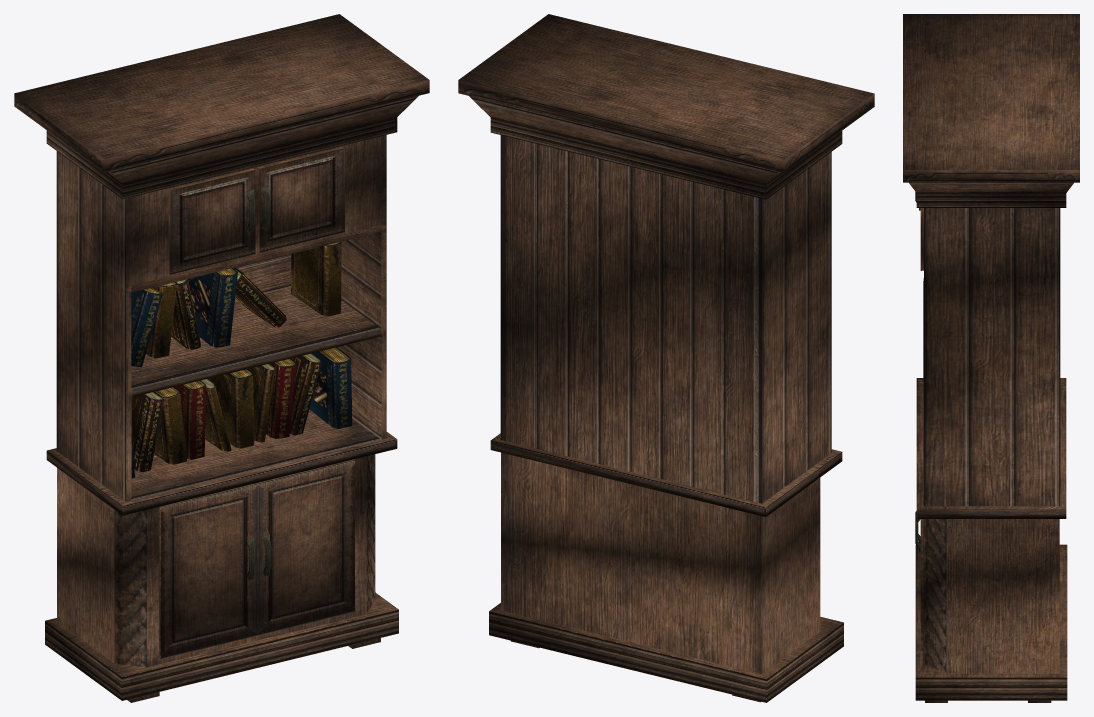
Rendered from GS_VOB_BOOKCASE_ORANGE_01_KOZA.glb.
3 renders of one model, left to right at view 1: azimuth 30°, elevation 25°; view 2: azimuth 150°, elevation 25°; view 3: azimuth 270°, elevation 25°, orthographic. The views are drawn at different scales.
Parts seen in each view (by area): view 1: Mesh; view 2: Mesh; view 3: Mesh.
Part boxes in pixels (x1,y1,x2,y2): Mesh: (14, 14, 429, 702); Mesh: (458, 14, 874, 702); Mesh: (903, 14, 1079, 702).
Bounding box in the file's own units: 1.41 × 2.33 × 0.6778.
Materials: 5 (5 with a texture image).
